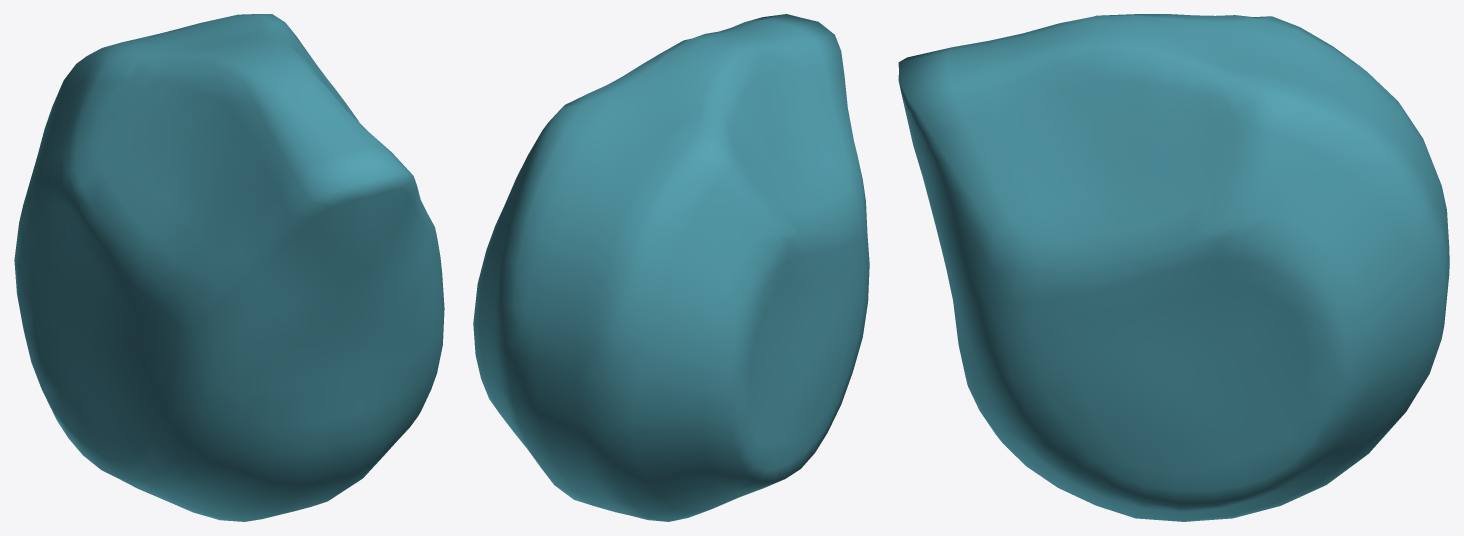
The model's file is VIS_Alpha_Surface_012.dae.
The picture shows the model from 3 angles, left to right: view 1: azimuth 30°, elevation 25°; view 2: azimuth 150°, elevation 25°; view 3: azimuth 270°, elevation 25°; orthographic projection. The views are drawn at different scales.
Visible parts, largest first — view 1: VIS_Alpha_Surface_012; view 2: VIS_Alpha_Surface_012; view 3: VIS_Alpha_Surface_012.
Boxes of the visible parts, x1,y1,x2,y2 form: VIS_Alpha_Surface_012: (14, 14, 444, 521); VIS_Alpha_Surface_012: (473, 14, 869, 521); VIS_Alpha_Surface_012: (898, 14, 1449, 521).
Bounding box in the file's own units: 16.01 × 25.86 × 24.75.
